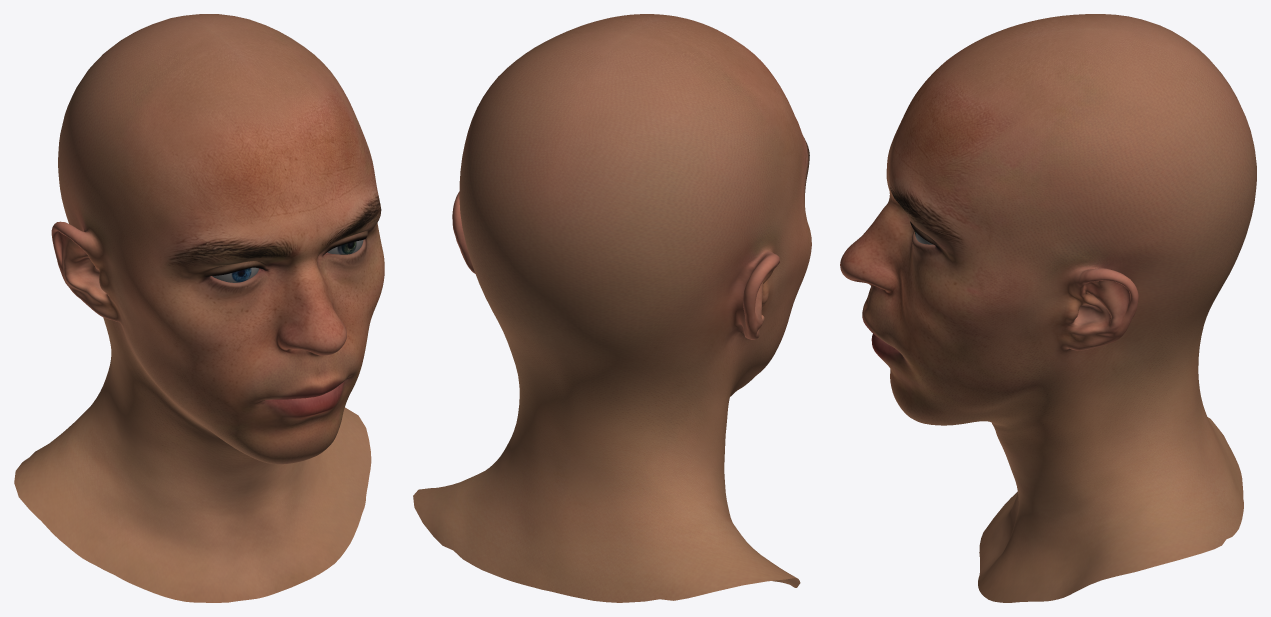
3 views of the same model, side by side, from view 1: azimuth 30°, elevation 25°; view 2: azimuth 150°, elevation 25°; view 3: azimuth 270°, elevation 25° (orthographic). The views are drawn at different scales.
Visible parts, largest first — view 1: Registered head; view 2: Registered head; view 3: Registered head.
Boxes of the visible parts, bbox=[...] form: Registered head: bbox=[14, 14, 384, 602]; Registered head: bbox=[413, 14, 811, 602]; Registered head: bbox=[840, 14, 1256, 602].
Bounding box in the file's own units: 1.28 × 1.91 × 1.32.
Materials: 3 (3 with a texture image).
